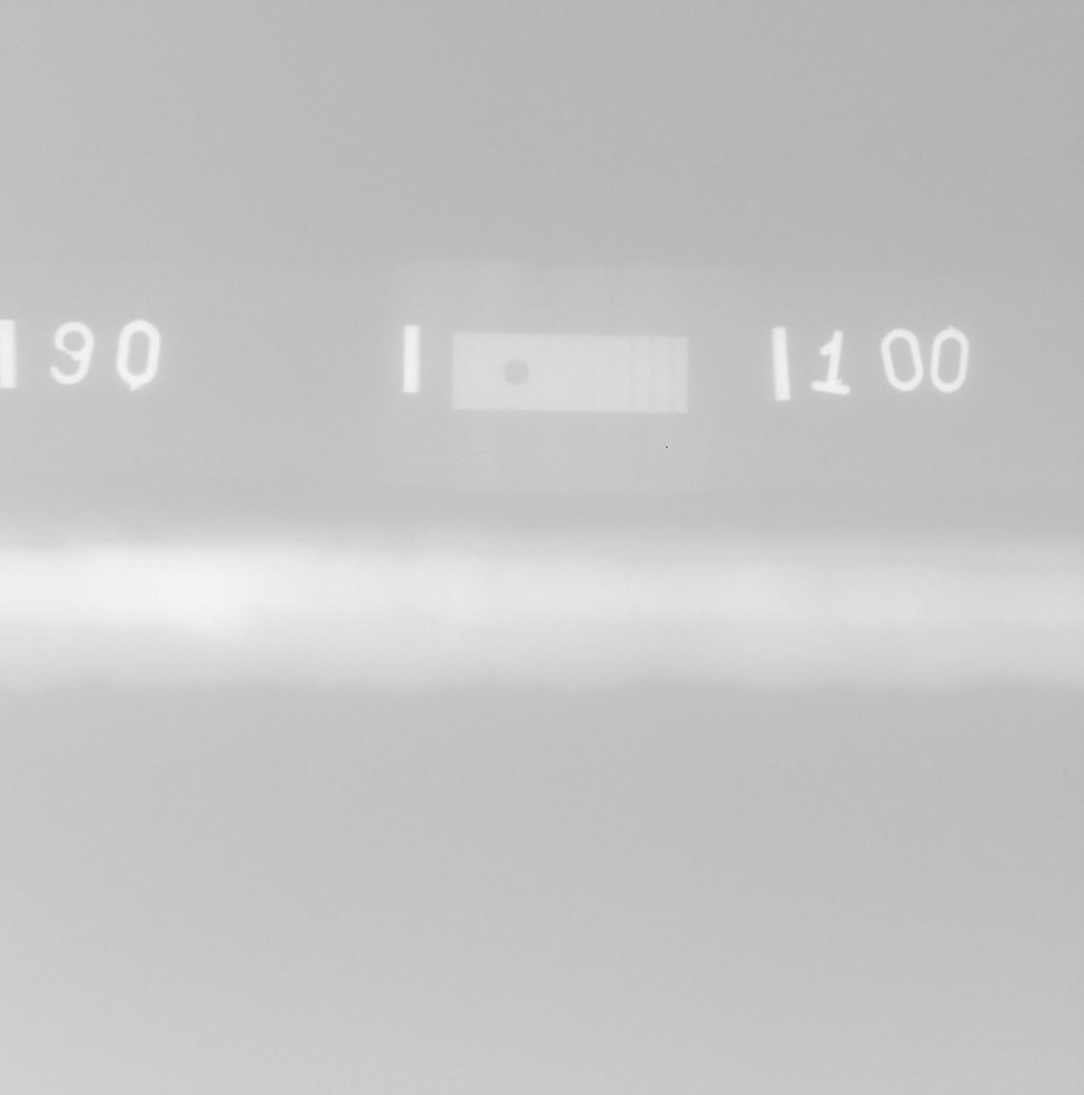Pore/Porosity: (600, 606, 607, 613), (732, 578, 738, 584)
Reference Standard 1: (451, 332, 687, 413)
